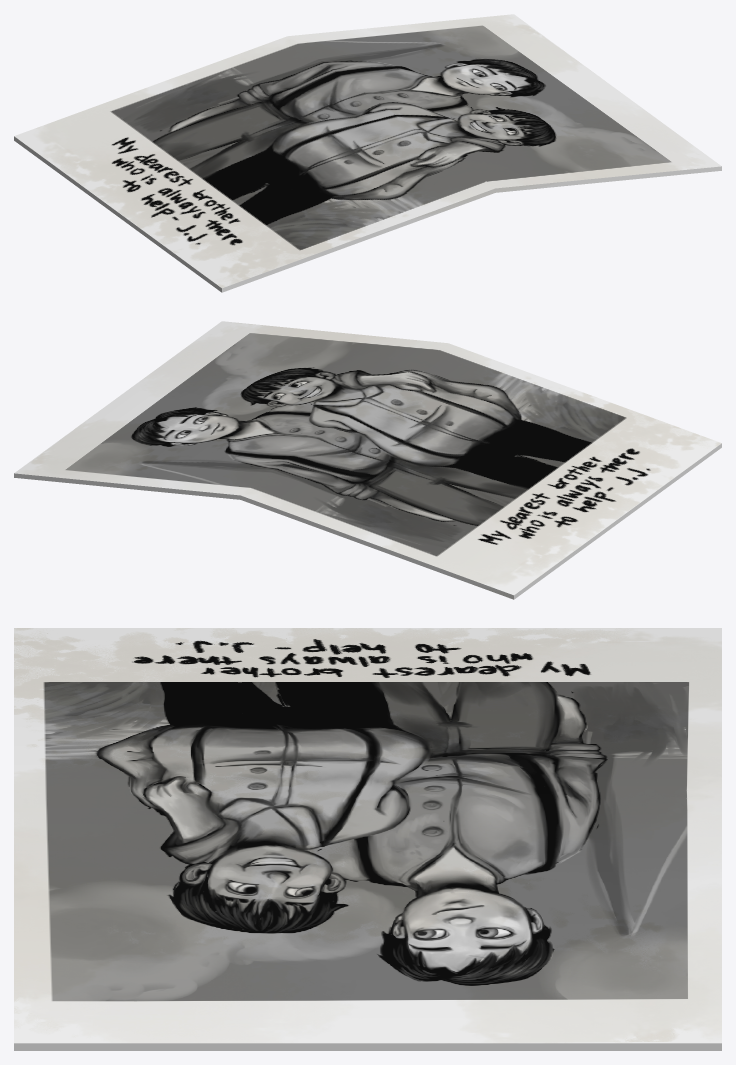
File: photographmodel.fbx
3 renders of one model, top to bottom at view 1: azimuth 30°, elevation 25°; view 2: azimuth 150°, elevation 25°; view 3: azimuth 270°, elevation 25°, orthographic. The views are drawn at different scales.
Visible parts, largest first — view 1: pCube1; view 2: pCube1; view 3: pCube1.
Boxes of the visible parts, left/top/right/bottom form: pCube1: left=14, top=14, right=721, bottom=292; pCube1: left=14, top=321, right=721, bottom=599; pCube1: left=14, top=628, right=721, bottom=1050.
Bounding box in the file's own units: 17.31 × 1.24 × 12.47.
Materials: 1 (1 with a texture image).
